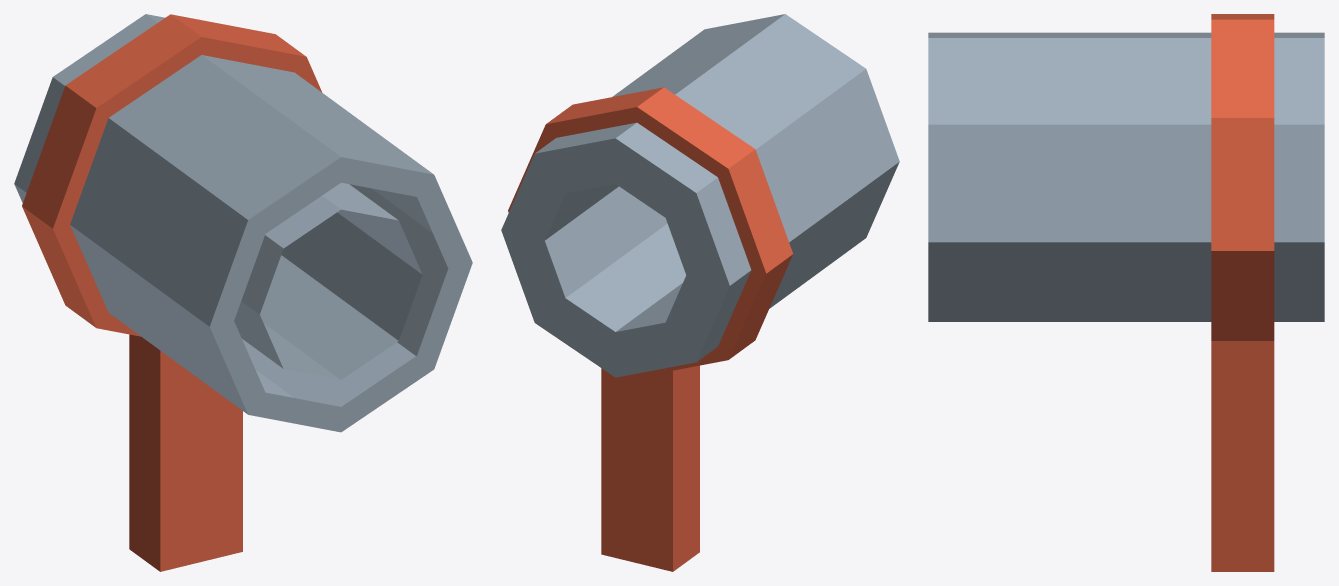
Rendered from pipeStandStraightLinerEnd.fbx.
3 renders of one model, left to right at view 1: azimuth 30°, elevation 25°; view 2: azimuth 150°, elevation 25°; view 3: azimuth 270°, elevation 25°, orthographic. The views are drawn at different scales.
Parts seen in each view (by area): view 1: pipeStandStraightLinerEnd; view 2: pipeStandStraightLinerEnd; view 3: pipeStandStraightLinerEnd.
Boxes of the visible parts, bbox=[...] form: pipeStandStraightLinerEnd: bbox=[14, 14, 472, 571]; pipeStandStraightLinerEnd: bbox=[501, 14, 899, 571]; pipeStandStraightLinerEnd: bbox=[928, 14, 1324, 571].
Size of the model in its own units: 5.53 by 9.33 by 6.3.
